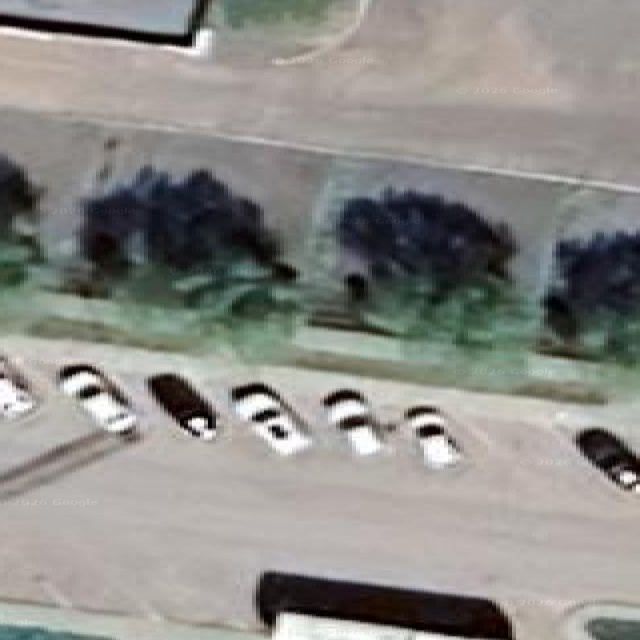car: (256, 569, 513, 639), (232, 383, 311, 455), (57, 364, 134, 433), (148, 372, 216, 439), (577, 427, 639, 492), (324, 388, 382, 455), (404, 406, 462, 467), (0, 356, 35, 415), (627, 635, 635, 639), (607, 635, 612, 639), (624, 636, 626, 639), (396, 633, 399, 635)
